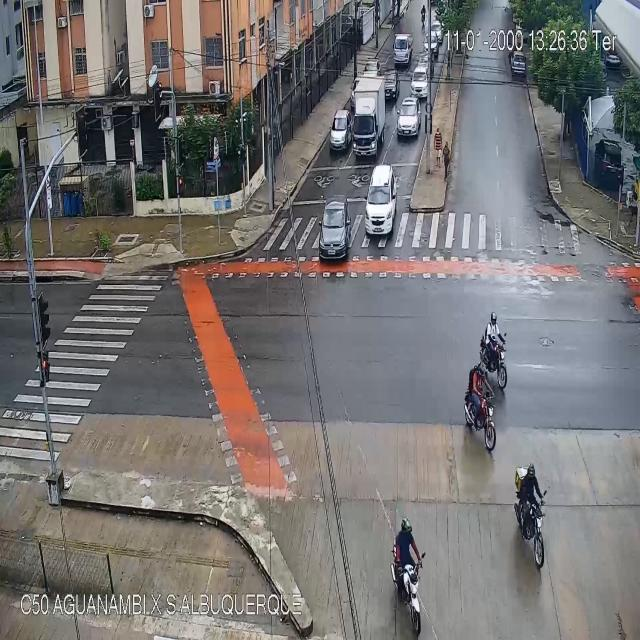Car: (318, 195, 351, 263), (365, 167, 396, 237), (397, 98, 422, 138), (380, 62, 404, 103), (330, 110, 350, 148), (411, 66, 427, 98), (511, 53, 526, 75), (424, 36, 439, 58), (364, 57, 378, 78), (430, 20, 442, 36)
Motorcycle: (390, 518, 426, 634), (516, 465, 546, 570), (464, 364, 496, 450), (481, 312, 507, 393), (421, 6, 425, 27)
Truck: (352, 72, 384, 155), (393, 33, 412, 69)
